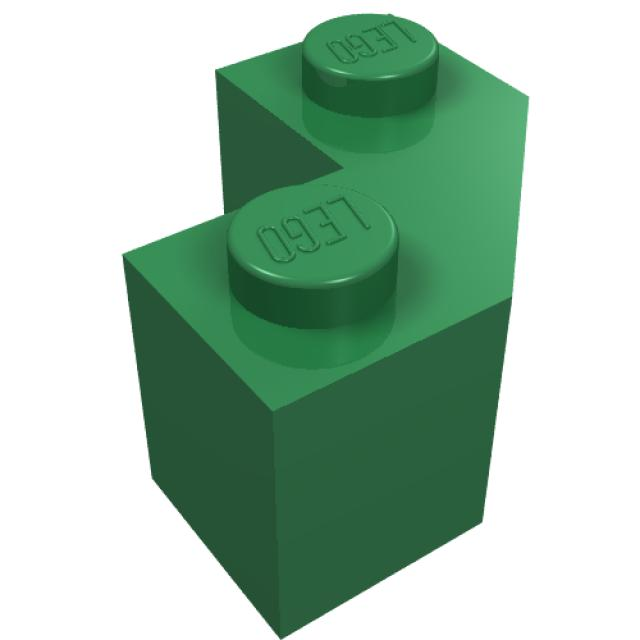Green_Medium: (122, 13, 530, 640)
